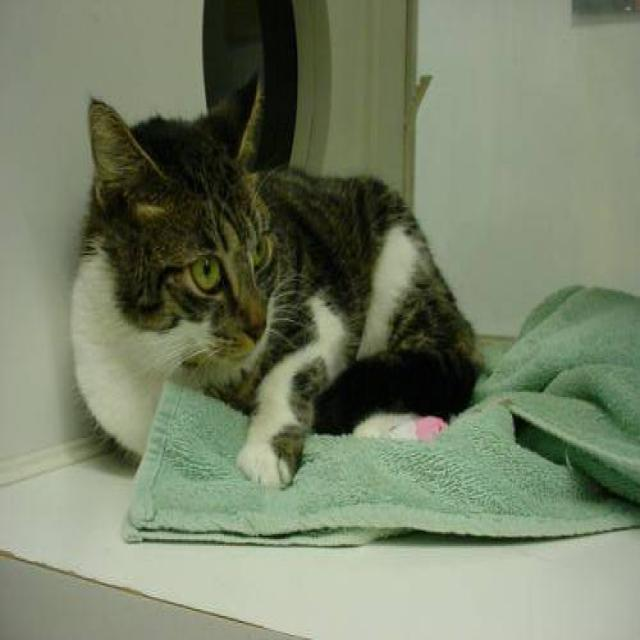cat: (68, 70, 488, 490)
